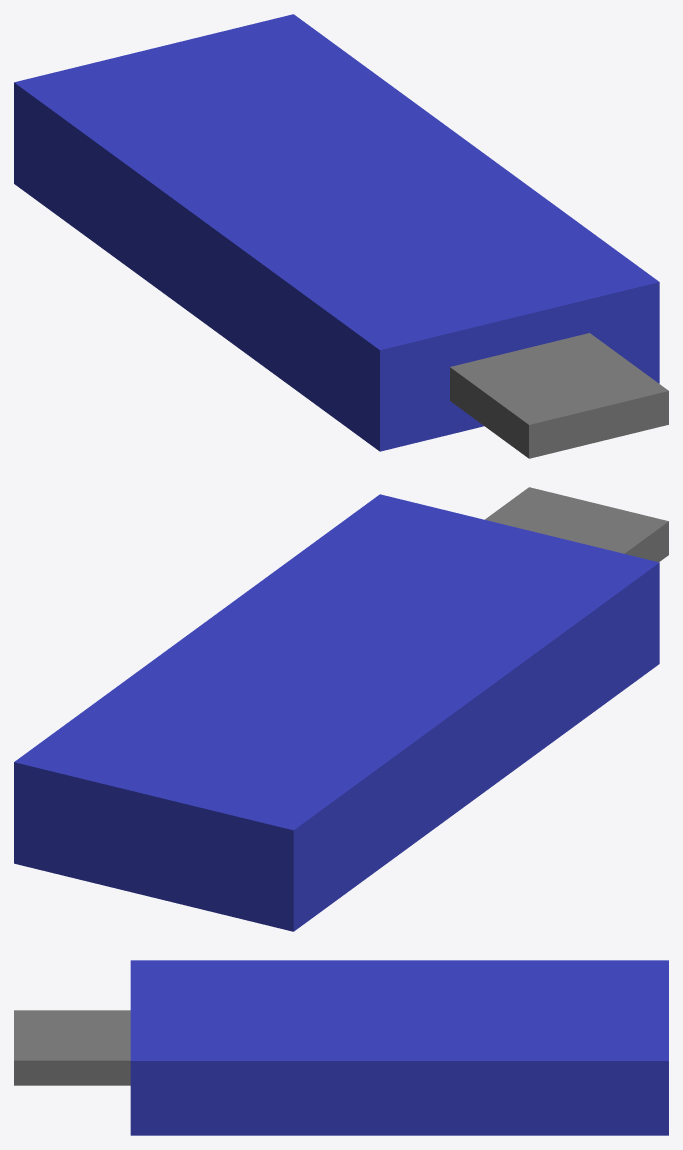
File: FlashDrive.FBX
3 renders of one model, top to bottom at view 1: azimuth 30°, elevation 25°; view 2: azimuth 150°, elevation 25°; view 3: azimuth 270°, elevation 25°, orthographic. The views are drawn at different scales.
Parts seen in each view (by area): view 1: Box001; view 2: Box001; view 3: Box001.
Part boxes in pixels (x1,y1,x2,y2): Box001: (14, 14, 668, 458); Box001: (14, 487, 668, 931); Box001: (14, 960, 668, 1135).
Size of the model in its own units: 47.24 by 16.38 by 130.
Materials: 2 (2 with a texture image).
